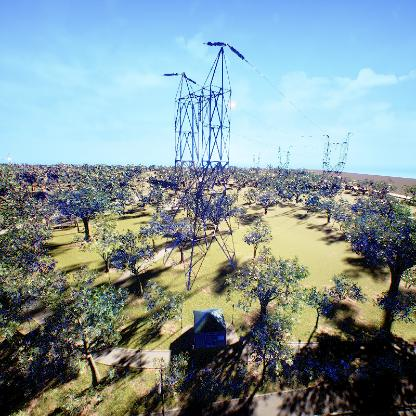tower: (154, 35, 253, 293)
